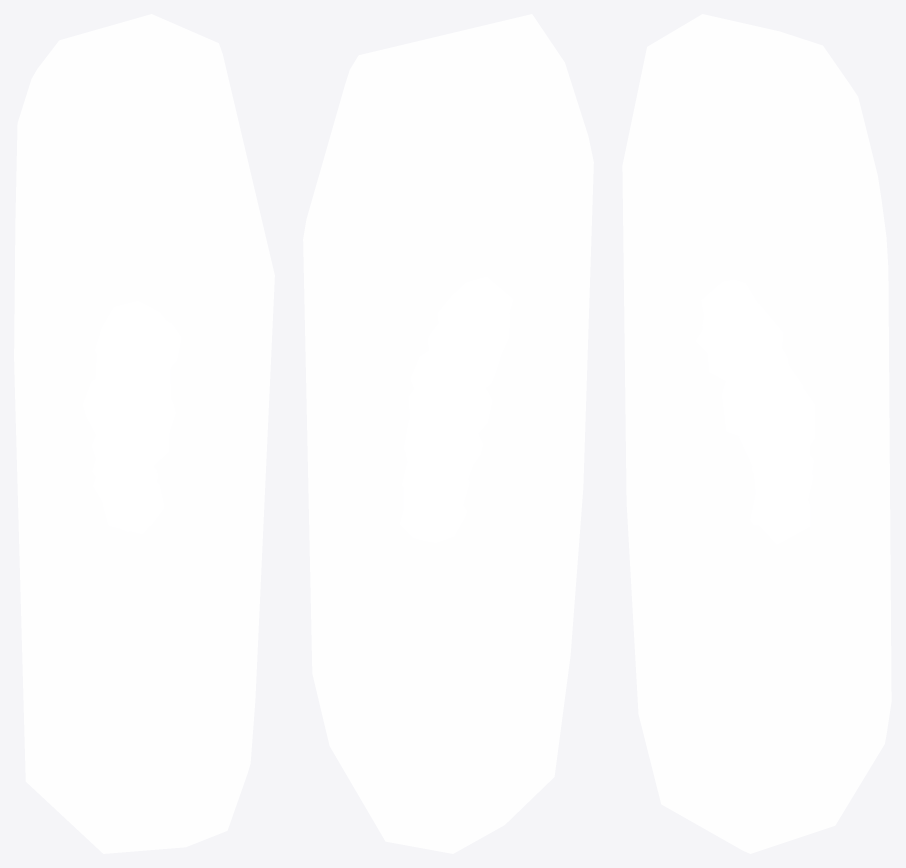
The model's file is tb1-unlit.glb.
3 views of the same model, side by side, from view 1: azimuth 30°, elevation 25°; view 2: azimuth 150°, elevation 25°; view 3: azimuth 270°, elevation 25° (orthographic). The views are drawn at different scales.
Parts seen in each view (by area): view 1: Untitled_6_DiamondHull_geo_c8313697256347fc832e290f4c04b901_, Untitled_6_Icing_geo_2f212815f4d3c1a4681afeeaf9c6dc37_Icing_; view 2: Untitled_6_DiamondHull_geo_c8313697256347fc832e290f4c04b901_, Untitled_6_Icing_geo_2f212815f4d3c1a4681afeeaf9c6dc37_Icing_; view 3: Untitled_6_DiamondHull_geo_c8313697256347fc832e290f4c04b901_, Untitled_6_Icing_geo_2f212815f4d3c1a4681afeeaf9c6dc37_Icing_.
Part boxes in pixels (x1,y1,x2,y2): Untitled_6_DiamondHull_geo_c8313697256347fc832e290f4c04b901_: (14,14,274,853); Untitled_6_Icing_geo_2f212815f4d3c1a4681afeeaf9c6dc37_Icing_: (83,301,180,533); Untitled_6_DiamondHull_geo_c8313697256347fc832e290f4c04b901_: (303,14,593,853); Untitled_6_Icing_geo_2f212815f4d3c1a4681afeeaf9c6dc37_Icing_: (400,277,512,542); Untitled_6_DiamondHull_geo_c8313697256347fc832e290f4c04b901_: (622,14,891,853); Untitled_6_Icing_geo_2f212815f4d3c1a4681afeeaf9c6dc37_Icing_: (696,280,814,543).
Bounding box in the file's own units: 0.1342 × 0.4246 × 0.1309.
Materials: 2 (1 with a texture image).
